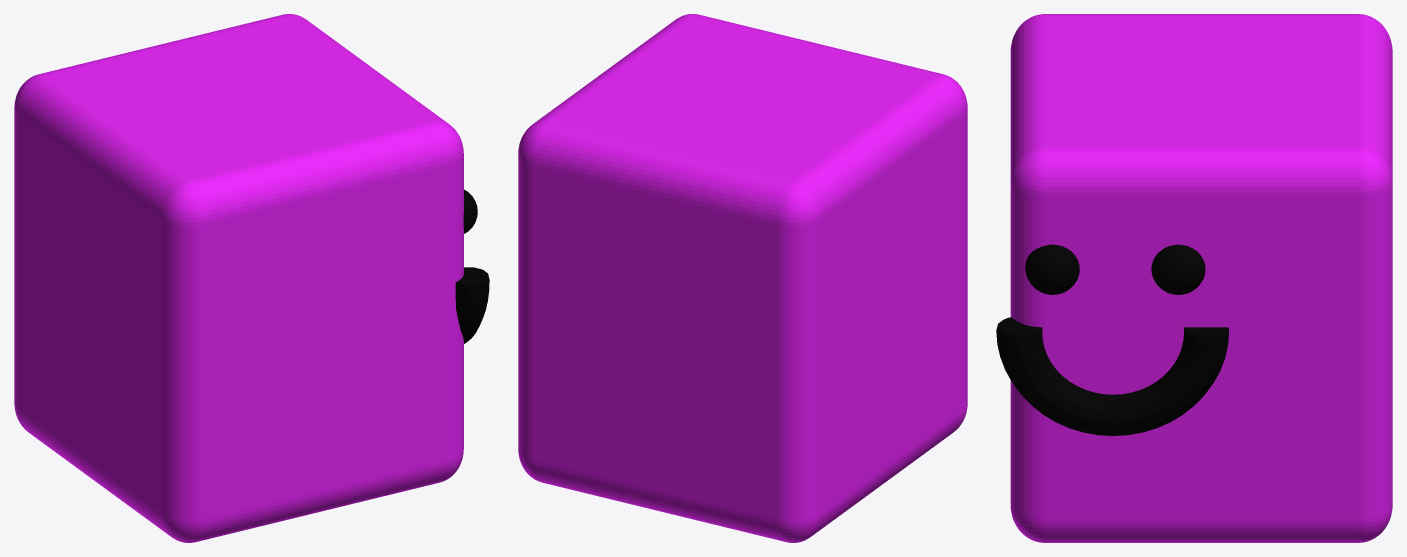
File: Chracter_Purple.glb
The picture shows the model from 3 angles, left to right: view 1: azimuth 30°, elevation 25°; view 2: azimuth 150°, elevation 25°; view 3: azimuth 270°, elevation 25°; orthographic projection. The views are drawn at different scales.
Parts seen in each view (by area): view 1: Chracter_Purple; view 2: Chracter_Purple; view 3: Chracter_Purple.
Boxes of the visible parts, bbox=[...] form: Chracter_Purple: bbox=[14, 14, 489, 542]; Chracter_Purple: bbox=[518, 14, 967, 542]; Chracter_Purple: bbox=[996, 14, 1392, 542].
Bounding box in the file's own units: 1.84 × 2 × 1.83.
